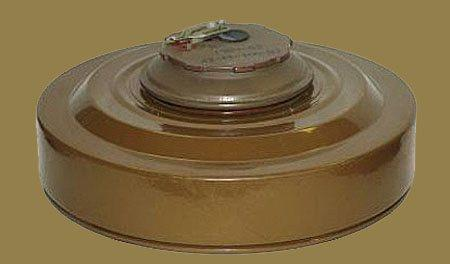TM 62: (35, 19, 419, 255)
